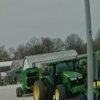Tractor: (15, 52, 92, 100)
